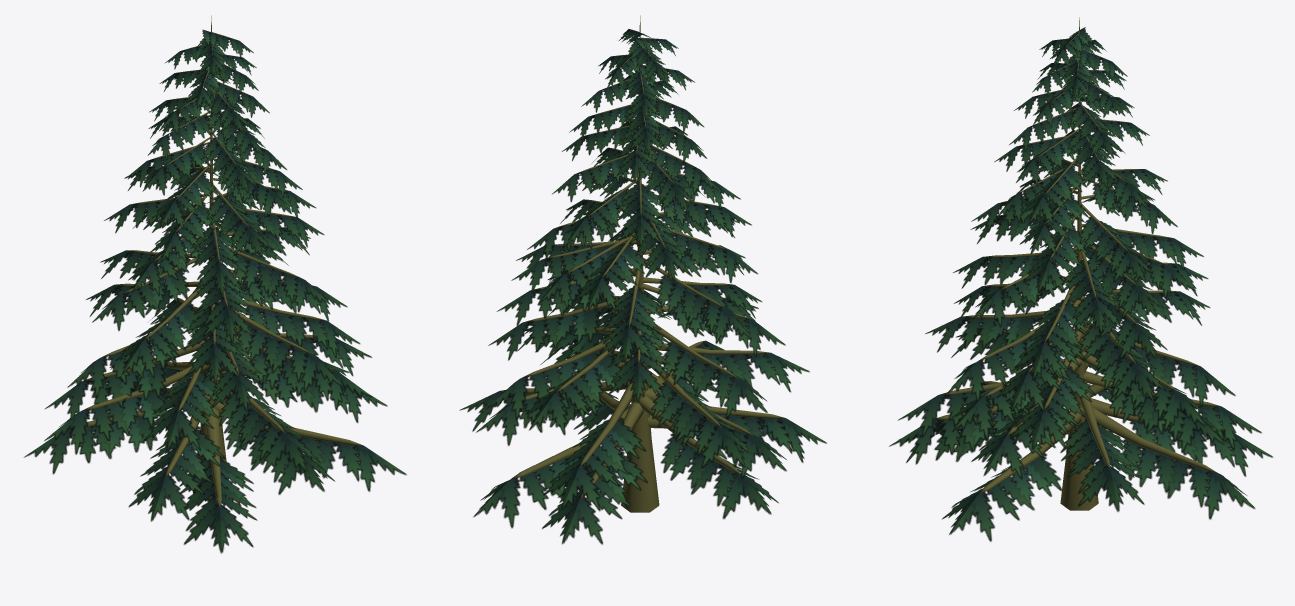
Rendered from pine-drooping.glb.
The picture shows the model from 3 angles, left to right: view 1: azimuth 30°, elevation 25°; view 2: azimuth 150°, elevation 25°; view 3: azimuth 270°, elevation 25°; orthographic projection. The views are drawn at different scales.
Parts seen in each view (by area): view 1: leaf, bark; view 2: leaf, bark; view 3: leaf, bark.
Part boxes in pixels (left/top/right/bottom): leaf: left=23, top=29, right=406, bottom=553; bark: left=68, top=15, right=362, bottom=507; leaf: left=459, top=29, right=827, bottom=544; bark: left=500, top=15, right=785, bottom=512; leaf: left=889, top=27, right=1273, bottom=541; bark: left=933, top=17, right=1223, bottom=510.
Bounding box in the file's own units: 2.7 × 3.78 × 2.77.
Materials: 2 (1 with a texture image).
